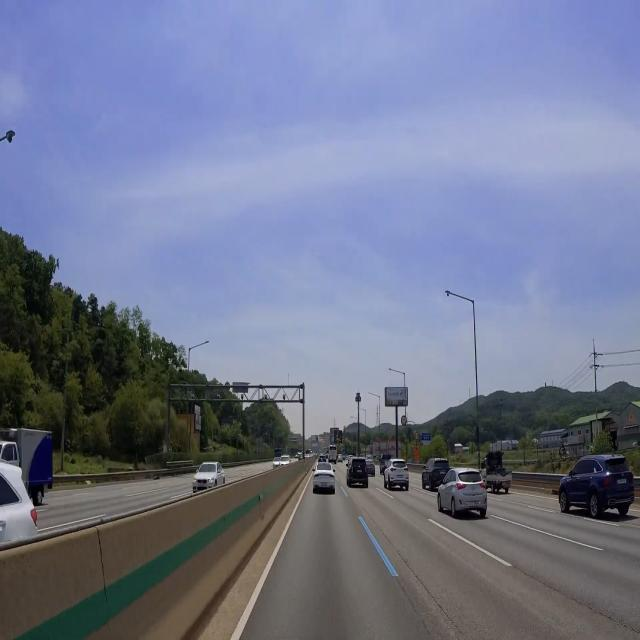car: (466, 497, 483, 512), (614, 474, 631, 488), (436, 466, 450, 481), (497, 477, 510, 490), (394, 472, 406, 483), (318, 480, 329, 492), (356, 467, 366, 477), (197, 483, 206, 491)
